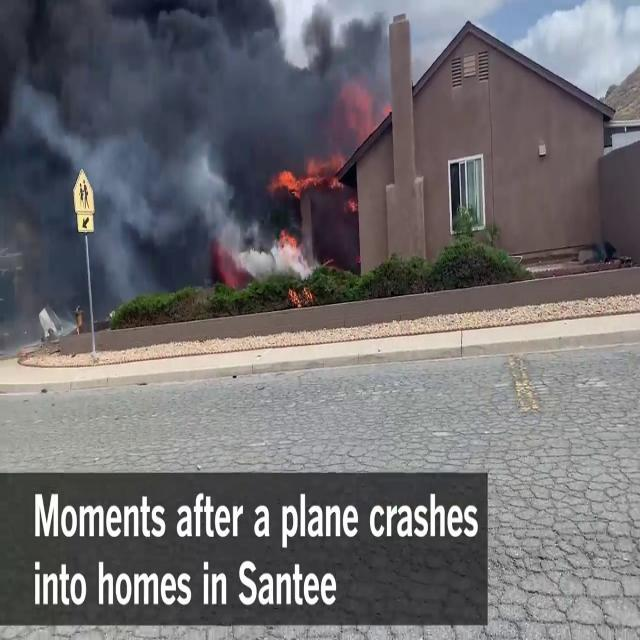Fire: (278, 163, 304, 201)
Smoke: (0, 0, 380, 314)
